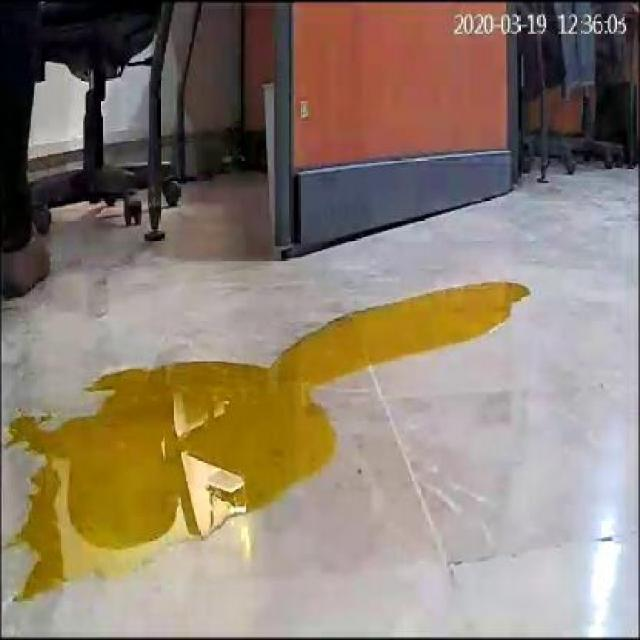spill: (9, 278, 532, 598)
